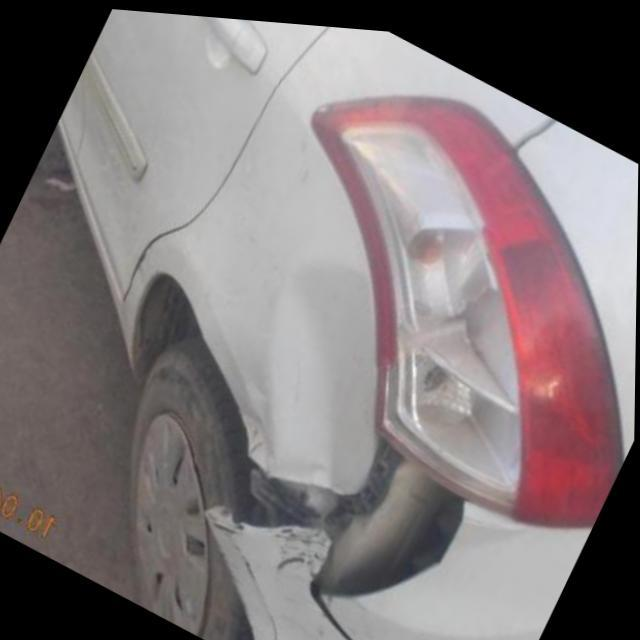dent: (255, 257, 372, 477)
lamp broken: (380, 259, 530, 493)
no part: (205, 427, 473, 640)
